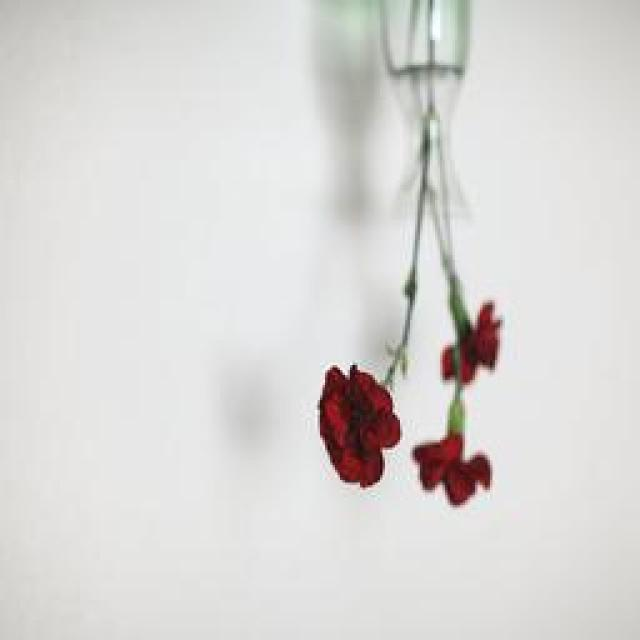carnation: (302, 348, 414, 502)
